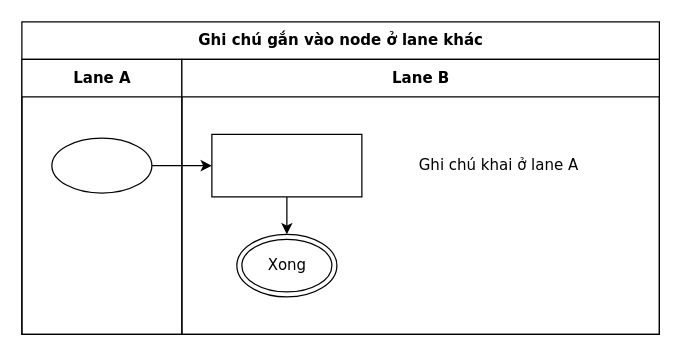
Some shapes in this 681 by 356 pixel diagram are drawn without their labels. The box of each missing label's shape, as (x1, y1, x2, y2) in pixels:
Vào: (51, 137, 152, 193)
Xử lý: (211, 133, 362, 197)
